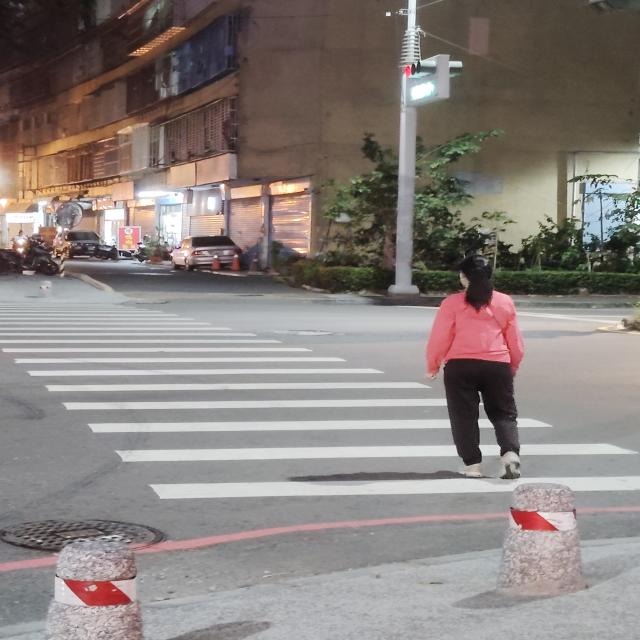zebra_crossing: (259, 234, 640, 640), (132, 155, 139, 459)
